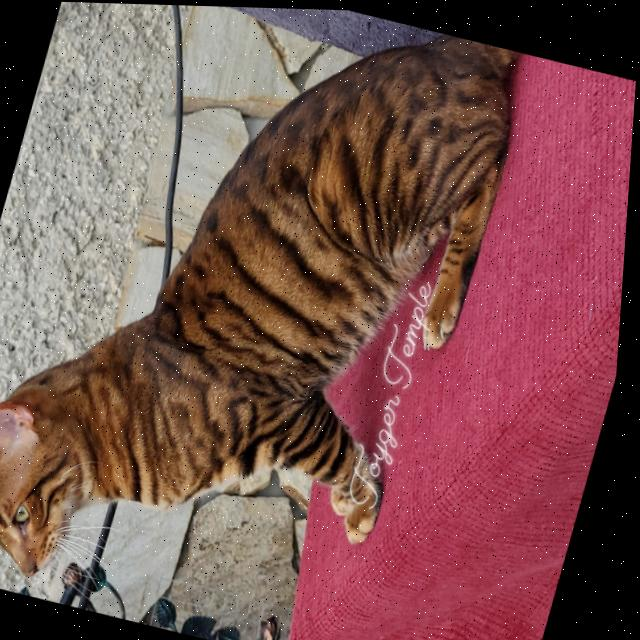Toyger: (0, 0, 543, 640)
